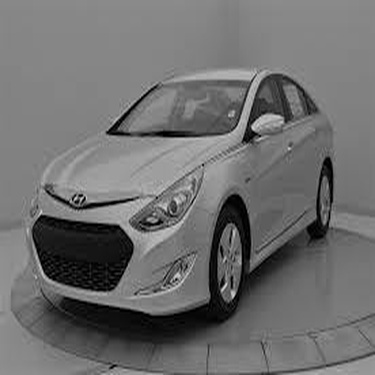car: (24, 63, 355, 317)
